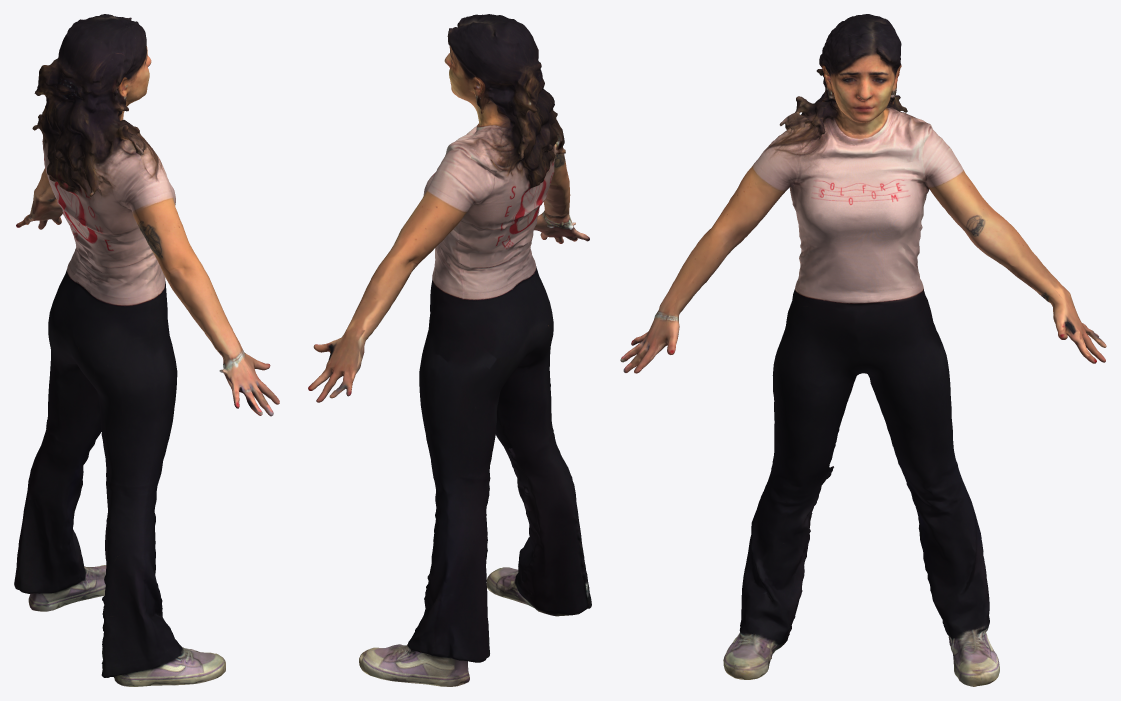
File: subject_001_anim.glb
3 renders of one model, left to right at view 1: azimuth 30°, elevation 25°; view 2: azimuth 150°, elevation 25°; view 3: azimuth 270°, elevation 25°, orthographic.
Parts seen in each view (by area): view 1: 7b51f_sequence; view 2: 7b51f_sequence; view 3: 7b51f_sequence.
Part boxes in pixels (x1,y1,x2,y2): 7b51f_sequence: (14, 14, 279, 686); 7b51f_sequence: (308, 14, 591, 686); 7b51f_sequence: (620, 14, 1106, 686).
Bounding box in the file's own units: 3.61 × 15.68 × 11.
1 material, 1 textured.
